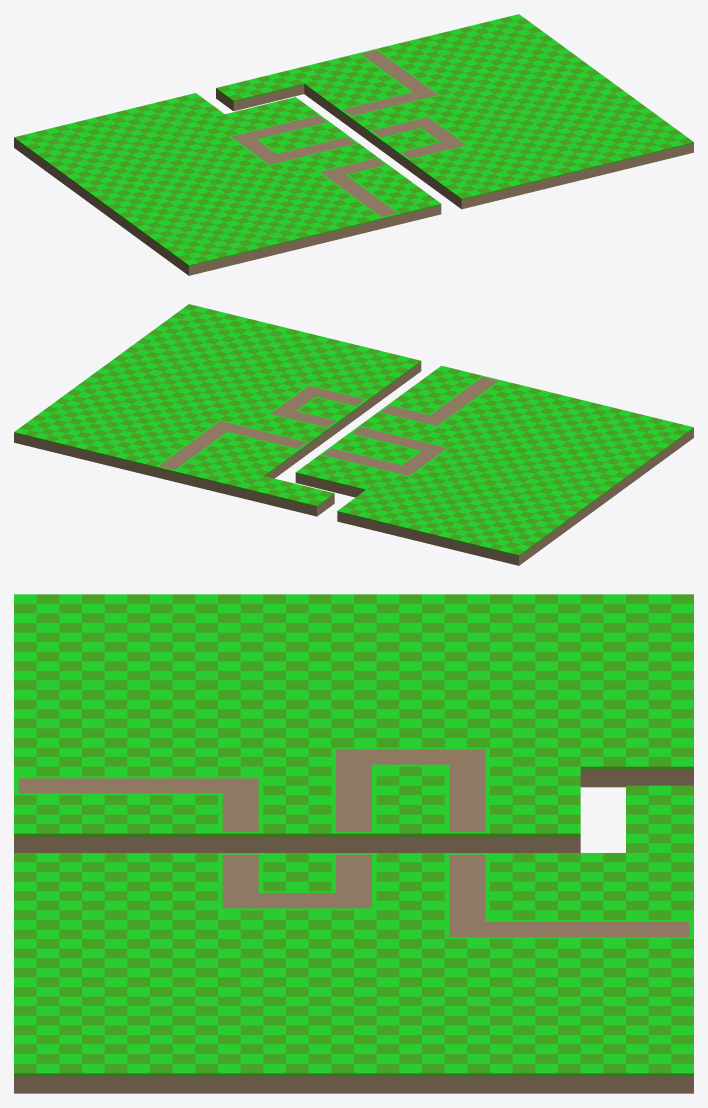
Rendered from Map 03.fbx.
3 renders of one model, top to bottom at view 1: azimuth 30°, elevation 25°; view 2: azimuth 150°, elevation 25°; view 3: azimuth 270°, elevation 25°, orthographic. The views are drawn at different scales.
Parts seen in each view (by area): view 1: Plane.011; view 2: Plane.011; view 3: Plane.011.
Boxes of the visible parts, bbox=[...] form: Plane.011: bbox=[14, 14, 693, 275]; Plane.011: bbox=[14, 304, 693, 565]; Plane.011: bbox=[14, 594, 693, 1093].
Size of the model in its own units: 500 by 10 by 300.
